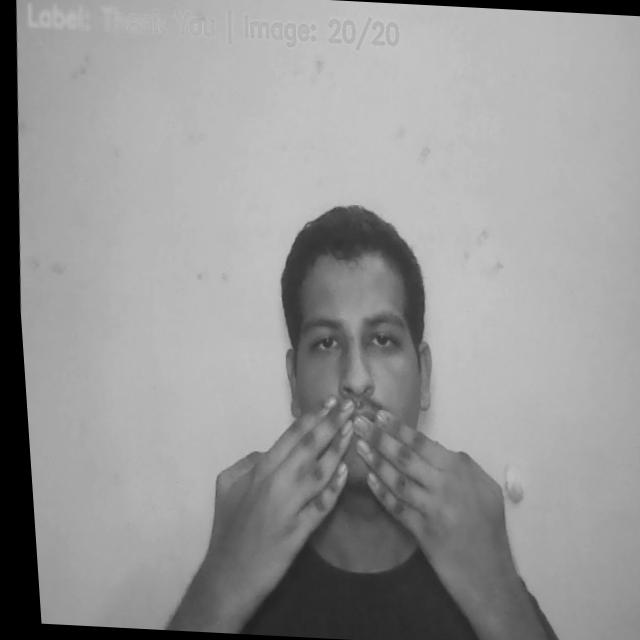Thank You: (181, 388, 508, 608)
